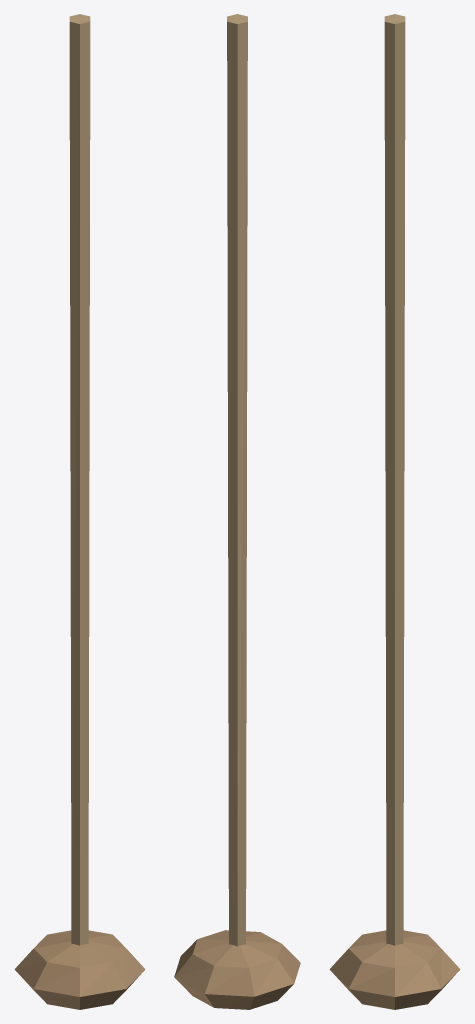
File: ladle.glb
The picture shows the model from 3 angles, left to right: view 1: azimuth 90°, elevation 25°; view 2: azimuth 150°, elevation 25°; view 3: azimuth 270°, elevation 25°; orthographic projection.
Parts seen in each view (by area): view 1: ladle; view 2: ladle; view 3: ladle.
Part boxes in pixels (x1,y1,x2,y2): ladle: [14, 14, 145, 1009]; ladle: [174, 14, 300, 1009]; ladle: [329, 14, 460, 1009].
Size of the model in its own units: 0.24 by 1.98 by 0.24.
